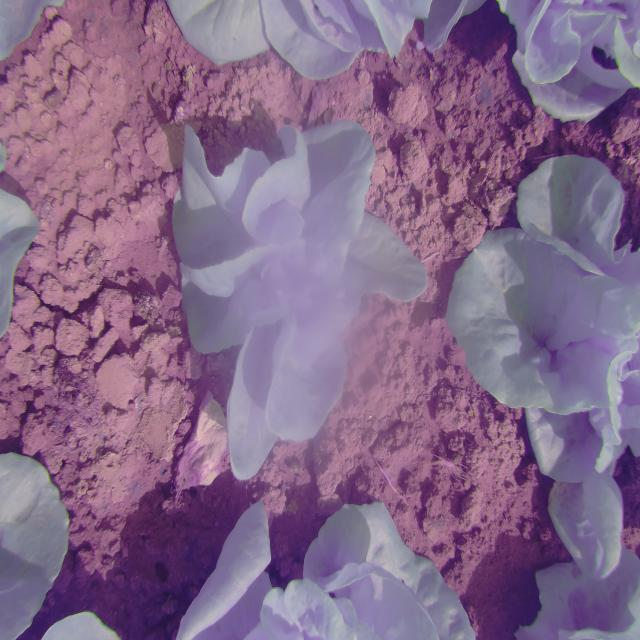vege: (168, 107, 430, 476)
